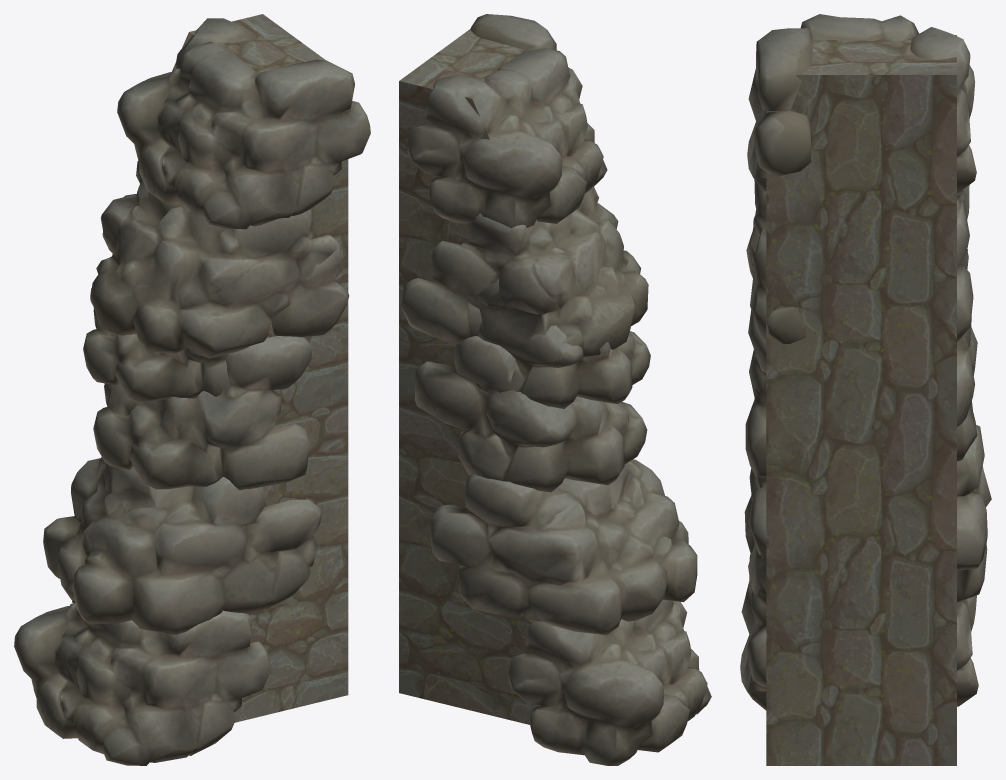
The model's file is MSH_fwOF_Ruins_Wall_End_03.fbx.
3 views of the same model, side by side, from view 1: azimuth 30°, elevation 25°; view 2: azimuth 150°, elevation 25°; view 3: azimuth 270°, elevation 25° (orthographic). The views are drawn at different scales.
Visible parts, largest first — view 1: MSH_fwOF_Ruins_Wall_End_03_LOD0, MSH_fwOF_Ruins_Wall_End_03_Base; view 2: MSH_fwOF_Ruins_Wall_End_03_LOD0, MSH_fwOF_Ruins_Wall_End_03_Base; view 3: MSH_fwOF_Ruins_Wall_End_03_Base, MSH_fwOF_Ruins_Wall_End_03_LOD0.
Part boxes in pixels (box(x1,y1,x2,y2)): MSH_fwOF_Ruins_Wall_End_03_LOD0: box(14, 18, 370, 765); MSH_fwOF_Ruins_Wall_End_03_Base: box(171, 14, 348, 722); MSH_fwOF_Ruins_Wall_End_03_LOD0: box(401, 14, 711, 765); MSH_fwOF_Ruins_Wall_End_03_Base: box(399, 29, 537, 724); MSH_fwOF_Ruins_Wall_End_03_Base: box(766, 35, 956, 765); MSH_fwOF_Ruins_Wall_End_03_LOD0: box(740, 14, 991, 710).
Size of what is drawn, in the model's own units: 1.88 by 4.22 by 1.32.
